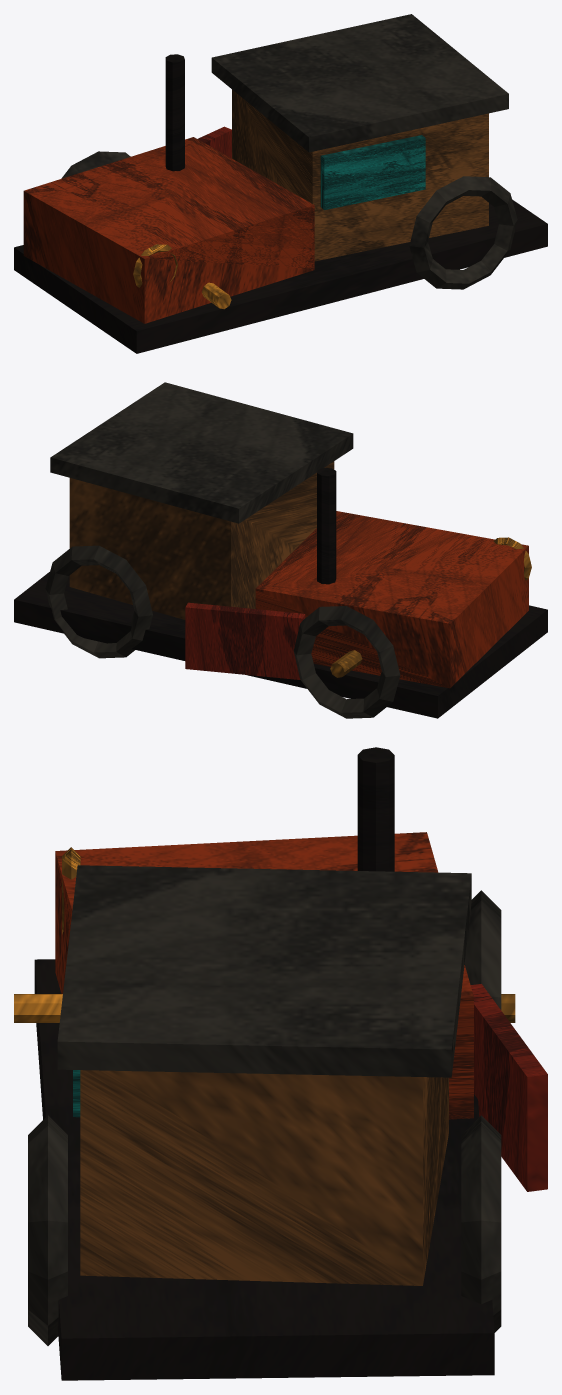
File: flivver-row-west-b.glb
3 renders of one model, top to bottom at view 1: azimuth 30°, elevation 25°; view 2: azimuth 150°, elevation 25°; view 3: azimuth 270°, elevation 25°, orthographic. The views are drawn at different scales.
Visible parts, largest first — view 1: flivver-row-west-b; view 2: flivver-row-west-b; view 3: flivver-row-west-b.
Boxes of the visible parts, x1=… form: flivver-row-west-b: x1=14, y1=14, x2=547, y2=353; flivver-row-west-b: x1=14, y1=382, x2=547, y2=718; flivver-row-west-b: x1=14, y1=747, x2=547, y2=1380.
Bounding box in the file's own units: 5.9 × 2.85 × 3.45.
Materials: 1 (1 with a texture image).
